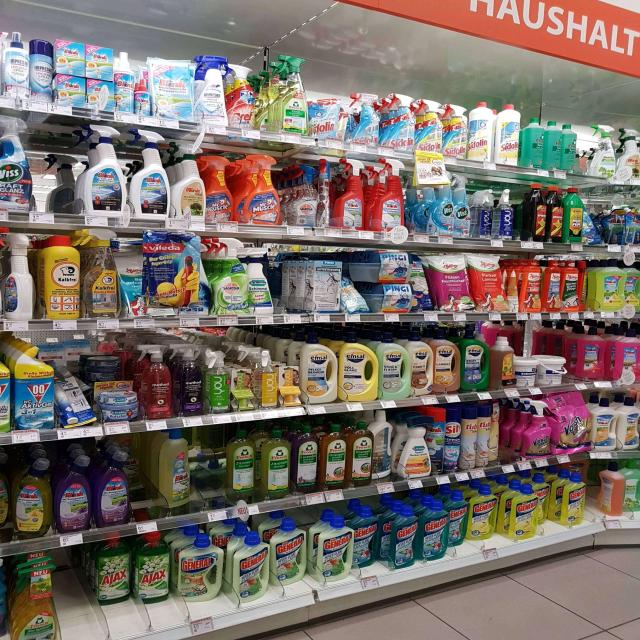empty_space: (59, 559, 94, 633)
